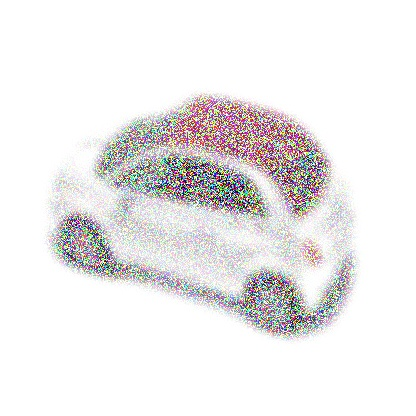Vehicle: (51, 99, 362, 338)
